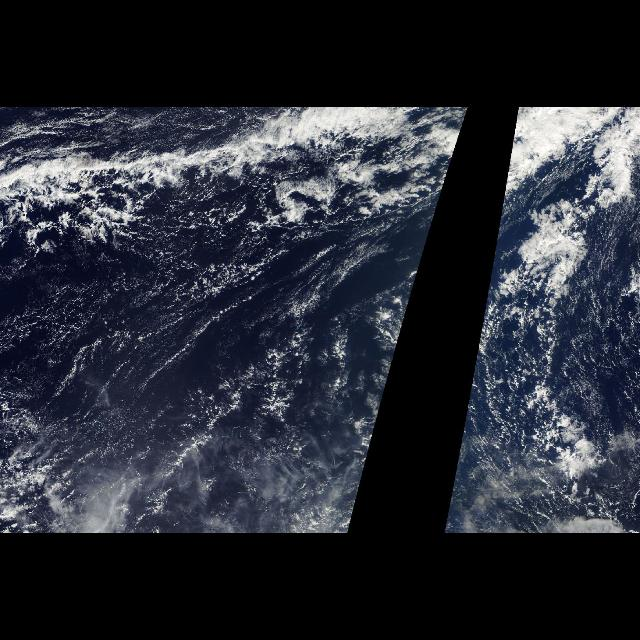Gravel: (42, 195, 298, 357)
